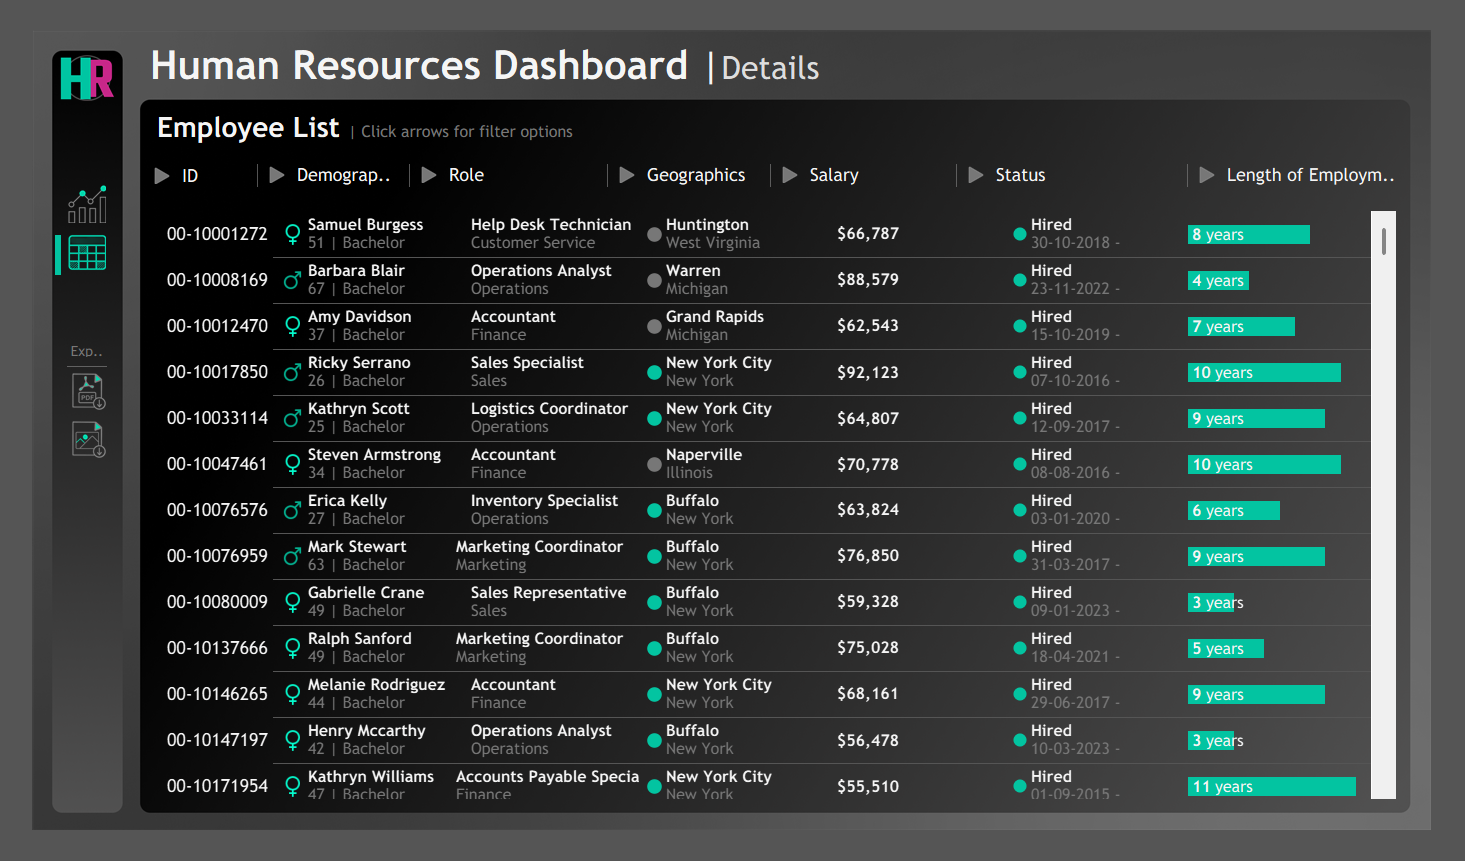

The page's visual inventory and layout, read from the dashboard file:
{"tool":"tableau","page":{"name":"HR | Details","canvas":[1400,800],"ordinal":0},"visuals":[{"type":"image","param":"Image/background dashbaord details.png","box":[0,0,1400,800]},{"type":"blank","box":[90,0,1309,240]},{"type":"text","box":[110,0,697,70]},{"type":"blank","box":[807,0,573,70]},{"type":"image","param":"Image/Logo.png","box":[20,20,70,55]},{"type":"text","box":[117,77,1256,47]},{"type":"blank","box":[30,85,50,70]},{"type":"dashboard-object","box":[117,124,25,43]},{"type":"text","box":[142,124,77,43]},{"type":"blank","box":[219,124,13,43]},{"type":"dashboard-object","box":[232,124,25,42]},{"type":"text","box":[257,124,114,42]},{"type":"blank","box":[371,124,13,43]},{"type":"dashboard-object","box":[384,124,25,42]},{"type":"text","box":[409,124,160,42]},{"type":"blank","box":[569,124,13,43]},{"type":"dashboard-object","box":[582,124,25,42]},{"type":"text","box":[607,124,125,42]},{"type":"blank","box":[732,124,13,43]},{"type":"dashboard-object","box":[745,124,25,42]},{"type":"text","box":[770,124,148,42]},{"type":"blank","box":[918,124,13,43]},{"type":"dashboard-object","box":[931,124,25,42]},{"type":"text","box":[955.9,124,193.5,42]},{"type":"blank","box":[1149.5,124,13,43]},{"type":"dashboard-object","box":[1162.5,124,25,42]},{"type":"text","box":[1187.5,124,185.5,42]},{"type":"dashboard-object","box":[30,155,50,38]},{"type":"filter","title":"Detailed","param":"[federated.1uy6vyf0tya8w3119f4041qdymfc].[none:Calculation_990228993555632131:nk","box":[232,156,139,48]},{"type":"filter","title":"Detailed","param":"[federated.1uy6vyf0tya8w3119f4041qdymfc].[none:Job Title:nk]","box":[384,156,185,48]},{"type":"filter","title":"Detailed","param":"[federated.1uy6vyf0tya8w3119f4041qdymfc].[sum:Salary:qk]","box":[745,160,173,68]},{"type":"filter","title":"Detailed","param":"[federated.1uy6vyf0tya8w3119f4041qdymfc].[none:Calculation_2981664453132697602:n","box":[931,160,218.5,56]},{"type":"filter","title":"Detailed","param":"[federated.1uy6vyf0tya8w3119f4041qdymfc].[sum:Calculation_990228993560891399:qk]","box":[1162.5,160,210.5,68]},{"type":"filter","title":"Detailed","param":"[federated.1uy6vyf0tya8w3119f4041qdymfc].[none:Employee_ID:nk]","box":[117,161,102,53]},{"type":"filter","title":"Detailed","param":"[federated.1uy6vyf0tya8w3119f4041qdymfc].[none:Calculation_3363625995846344715:n","box":[582,166,150,64]},{"type":"worksheet","title":"Detailed","mark":"Shape","rows":["Employee_ID"],"cols":["Calculation_990228993555034113","Calculation_990228993555034113","Calculation_990228993555034113","Calculation_990228993555034113","Calculation_990228993555034113","Calculation_990228993560891399"],"box":[117,177,1256,596]},{"type":"blank","box":[30,193,50,10]},{"type":"dashboard-object","box":[30,203,50,38]},{"type":"filter","title":"Detailed","param":"[federated.1uy6vyf0tya8w3119f4041qdymfc].[none:Gender:nk]","box":[232,204,139,48]},{"type":"filter","title":"Detailed","param":"[federated.1uy6vyf0tya8w3119f4041qdymfc].[none:Department:nk]","box":[384,204,185,48]},{"type":"blank","box":[23,205,6,40]},{"type":"filter","title":"Detailed","param":"[federated.1uy6vyf0tya8w3119f4041qdymfc].[yr:Hiredate:ok]","box":[931,216,218.5,56]},{"type":"filter","title":"Detailed","param":"[federated.1uy6vyf0tya8w3119f4041qdymfc].[none:State:nk]","box":[582,230,150,64]},{"type":"text","box":[90,240,1309,320]},{"type":"blank","box":[30,241,50,70]},{"type":"filter","title":"Detailed","param":"[federated.1uy6vyf0tya8w3119f4041qdymfc].[none:Calculation_3363625995862552598:n","box":[232,252,139,48]},{"type":"filter","title":"Detailed","param":"[federated.1uy6vyf0tya8w3119f4041qdymfc].[yr:Termdate:ok]","box":[931,272,218.5,56]},{"type":"filter","title":"Detailed","param":"[federated.1uy6vyf0tya8w3119f4041qdymfc].[none:City:nk]","box":[582,294,150,64]},{"type":"filter","title":"Detailed","param":"[federated.1uy6vyf0tya8w3119f4041qdymfc].[none:Education Level:nk]","box":[232,300,139,48]},{"type":"text","box":[30,311,50,20]},{"type":"blank","box":[30,331,50,11]},{"type":"dashboard-object","box":[30,342,50,38]},{"type":"blank","box":[30,380,50,10]},{"type":"dashboard-object","box":[30,390,50,38]},{"type":"blank","box":[30,428,50,10]},{"type":"blank","box":[90,560,1309,240]}]}

Visuals, with their boxes in screenshot pixels (x1, y1, x2, y2), scaled from the page's 1400x800 canvas onto the 1465x861 screenshot:
image: {"left": 0, "top": 0, "right": 1464, "bottom": 860}
blank: {"left": 94, "top": 0, "right": 1464, "bottom": 258}
text: {"left": 115, "top": 0, "right": 844, "bottom": 75}
blank: {"left": 844, "top": 0, "right": 1444, "bottom": 75}
image: {"left": 21, "top": 22, "right": 94, "bottom": 81}
text: {"left": 122, "top": 83, "right": 1437, "bottom": 133}
blank: {"left": 31, "top": 91, "right": 84, "bottom": 167}
dashboard-object: {"left": 122, "top": 133, "right": 149, "bottom": 180}
text: {"left": 149, "top": 133, "right": 229, "bottom": 180}
blank: {"left": 229, "top": 133, "right": 243, "bottom": 180}
dashboard-object: {"left": 243, "top": 133, "right": 269, "bottom": 179}
text: {"left": 269, "top": 133, "right": 388, "bottom": 179}
blank: {"left": 388, "top": 133, "right": 402, "bottom": 180}
dashboard-object: {"left": 402, "top": 133, "right": 428, "bottom": 179}
text: {"left": 428, "top": 133, "right": 595, "bottom": 179}
blank: {"left": 595, "top": 133, "right": 609, "bottom": 180}
dashboard-object: {"left": 609, "top": 133, "right": 635, "bottom": 179}
text: {"left": 635, "top": 133, "right": 766, "bottom": 179}
blank: {"left": 766, "top": 133, "right": 780, "bottom": 180}
dashboard-object: {"left": 780, "top": 133, "right": 806, "bottom": 179}
text: {"left": 806, "top": 133, "right": 961, "bottom": 179}
blank: {"left": 961, "top": 133, "right": 974, "bottom": 180}
dashboard-object: {"left": 974, "top": 133, "right": 1000, "bottom": 179}
text: {"left": 1000, "top": 133, "right": 1203, "bottom": 179}
blank: {"left": 1203, "top": 133, "right": 1216, "bottom": 180}
dashboard-object: {"left": 1216, "top": 133, "right": 1243, "bottom": 179}
text: {"left": 1243, "top": 133, "right": 1437, "bottom": 179}
dashboard-object: {"left": 31, "top": 167, "right": 84, "bottom": 208}
"Detailed" filter: {"left": 243, "top": 168, "right": 388, "bottom": 220}
"Detailed" filter: {"left": 402, "top": 168, "right": 595, "bottom": 220}
"Detailed" filter: {"left": 780, "top": 172, "right": 961, "bottom": 245}
"Detailed" filter: {"left": 974, "top": 172, "right": 1203, "bottom": 232}
"Detailed" filter: {"left": 1216, "top": 172, "right": 1437, "bottom": 245}
"Detailed" filter: {"left": 122, "top": 173, "right": 229, "bottom": 230}
"Detailed" filter: {"left": 609, "top": 179, "right": 766, "bottom": 248}
"Detailed" worksheet (Shape marks): {"left": 122, "top": 190, "right": 1437, "bottom": 832}
blank: {"left": 31, "top": 208, "right": 84, "bottom": 218}
dashboard-object: {"left": 31, "top": 218, "right": 84, "bottom": 259}
"Detailed" filter: {"left": 243, "top": 220, "right": 388, "bottom": 271}
"Detailed" filter: {"left": 402, "top": 220, "right": 595, "bottom": 271}
blank: {"left": 24, "top": 221, "right": 30, "bottom": 264}
"Detailed" filter: {"left": 974, "top": 232, "right": 1203, "bottom": 293}
"Detailed" filter: {"left": 609, "top": 248, "right": 766, "bottom": 316}
text: {"left": 94, "top": 258, "right": 1464, "bottom": 603}
blank: {"left": 31, "top": 259, "right": 84, "bottom": 335}
"Detailed" filter: {"left": 243, "top": 271, "right": 388, "bottom": 323}
"Detailed" filter: {"left": 974, "top": 293, "right": 1203, "bottom": 353}
"Detailed" filter: {"left": 609, "top": 316, "right": 766, "bottom": 385}
"Detailed" filter: {"left": 243, "top": 323, "right": 388, "bottom": 375}
text: {"left": 31, "top": 335, "right": 84, "bottom": 356}
blank: {"left": 31, "top": 356, "right": 84, "bottom": 368}
dashboard-object: {"left": 31, "top": 368, "right": 84, "bottom": 409}
blank: {"left": 31, "top": 409, "right": 84, "bottom": 420}
dashboard-object: {"left": 31, "top": 420, "right": 84, "bottom": 461}
blank: {"left": 31, "top": 461, "right": 84, "bottom": 471}
blank: {"left": 94, "top": 603, "right": 1464, "bottom": 860}
